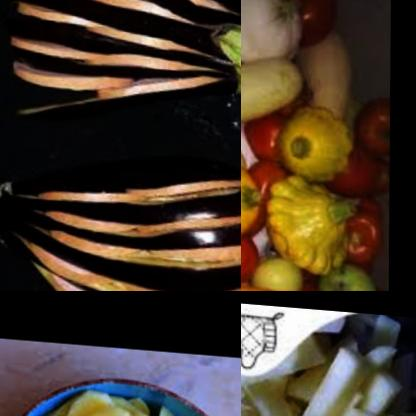eggplant: (0, 112, 241, 291), (8, 0, 241, 151)
potato: (241, 295, 416, 416), (5, 374, 241, 416)
squash-patisson: (267, 167, 356, 270), (267, 93, 352, 186), (241, 0, 304, 64), (241, 147, 276, 248)
tomato: (345, 191, 390, 270), (356, 80, 391, 167), (280, 0, 342, 47), (346, 147, 390, 205), (241, 223, 257, 280)
vegetable marrow: (241, 36, 321, 155), (305, 12, 363, 115), (320, 250, 375, 291), (241, 268, 335, 291)
